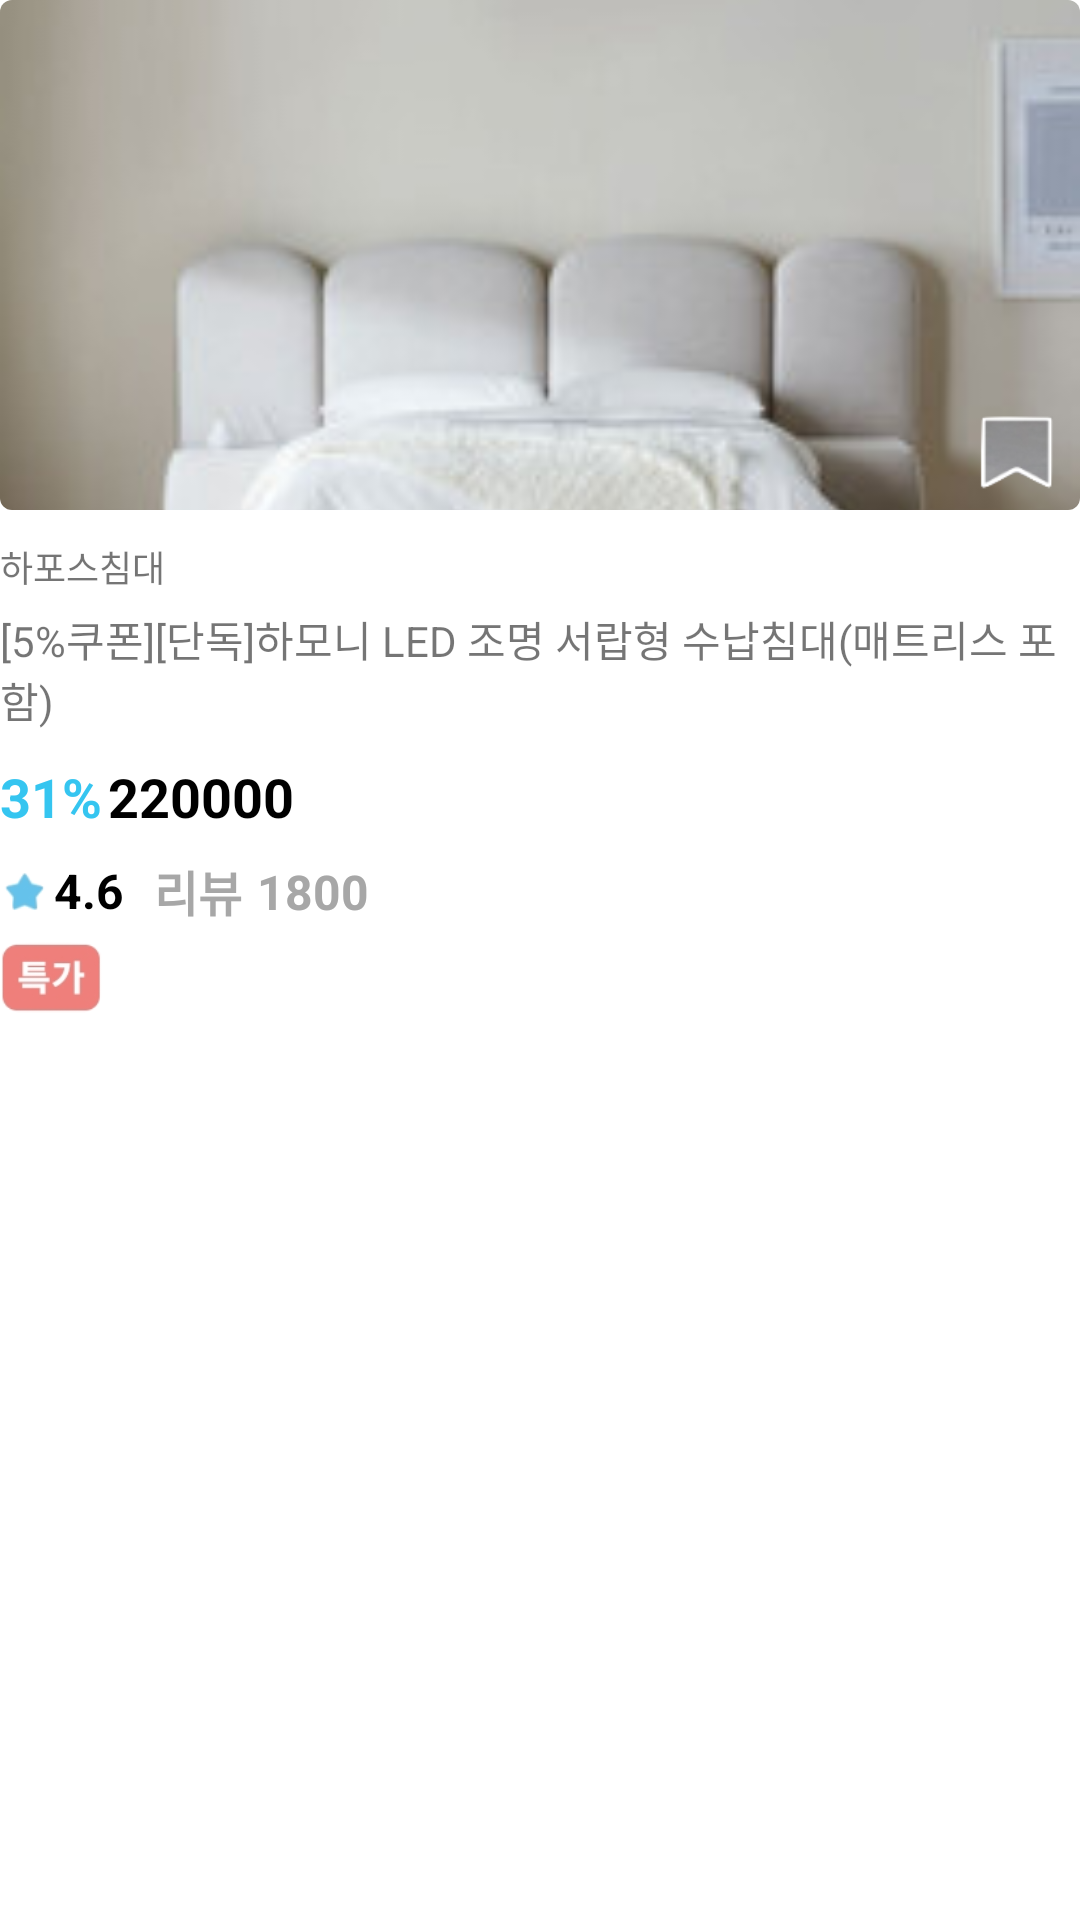

Named icons in this screenshot (1080px x 1920px) and their bounding boxes, rect(x1, y1, x2, y2):
store item scrap: rect(975, 405, 1065, 495)
store star: rect(6, 873, 43, 910)
